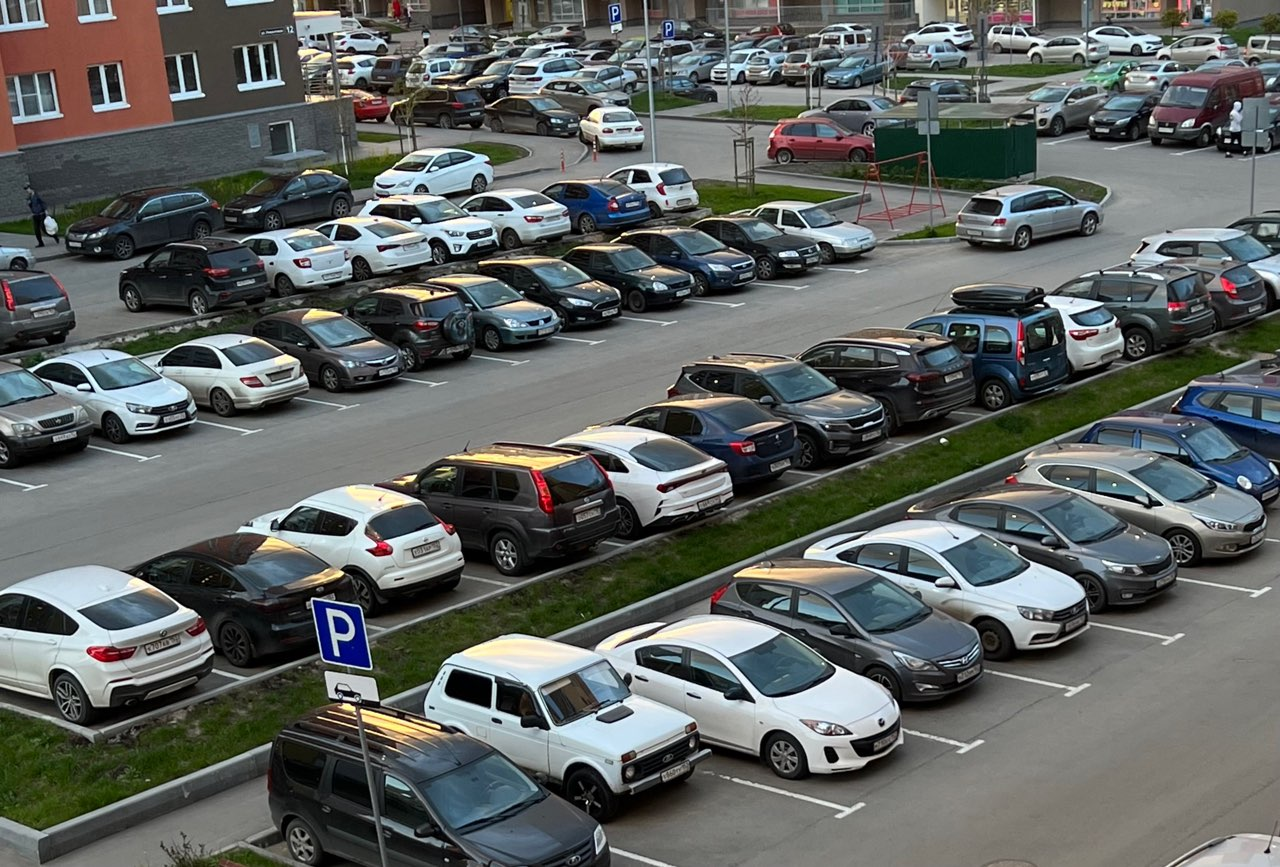Car: (267, 702, 615, 867), (423, 634, 713, 822), (596, 615, 903, 780), (710, 557, 985, 704), (803, 520, 1090, 660), (906, 483, 1180, 612), (0, 565, 214, 725), (119, 532, 359, 668), (379, 442, 621, 576), (1009, 444, 1268, 566), (239, 484, 465, 614), (666, 352, 891, 469), (906, 283, 1069, 410), (553, 425, 735, 538), (786, 326, 976, 434), (584, 392, 798, 487), (1080, 410, 1280, 506), (1045, 261, 1216, 360), (31, 349, 199, 443), (143, 333, 309, 416), (251, 308, 407, 392), (118, 236, 269, 316), (64, 186, 223, 260), (1129, 228, 1280, 305), (343, 283, 475, 370), (476, 255, 624, 328), (426, 274, 561, 351), (0, 360, 93, 468), (613, 225, 758, 294), (954, 184, 1104, 250), (359, 194, 500, 264), (1148, 66, 1266, 149), (563, 242, 697, 313), (1170, 375, 1280, 461), (727, 200, 878, 262), (692, 213, 823, 280), (222, 169, 354, 231), (241, 228, 353, 297), (1165, 257, 1270, 329), (316, 216, 432, 281), (458, 188, 572, 249), (1045, 295, 1125, 375), (0, 268, 76, 351), (371, 147, 496, 197), (542, 178, 652, 234), (1017, 79, 1112, 136), (607, 163, 700, 220), (767, 116, 875, 165), (389, 85, 485, 129), (536, 74, 631, 117), (483, 95, 580, 137), (1165, 832, 1280, 867), (799, 94, 897, 135), (1088, 89, 1162, 140), (1215, 105, 1280, 155), (578, 105, 646, 151), (823, 50, 897, 90), (622, 39, 695, 79), (465, 58, 532, 101), (508, 57, 583, 95), (1154, 32, 1239, 65), (781, 47, 847, 87), (1082, 24, 1164, 56), (1026, 35, 1110, 64), (301, 52, 359, 93), (899, 79, 992, 104), (1123, 59, 1193, 91), (430, 54, 500, 86), (1228, 210, 1280, 253), (710, 48, 770, 85), (901, 21, 975, 51), (370, 53, 422, 94), (987, 24, 1057, 54), (664, 50, 727, 83), (1078, 57, 1141, 90), (326, 54, 380, 91), (906, 40, 968, 72), (654, 76, 718, 103), (403, 57, 457, 89), (575, 64, 638, 91), (656, 18, 725, 42), (340, 89, 390, 122), (744, 52, 790, 87), (448, 24, 508, 48), (341, 17, 392, 44), (803, 22, 872, 41), (818, 31, 869, 56), (333, 31, 388, 54), (1243, 33, 1280, 67), (734, 22, 796, 41), (527, 23, 587, 40), (1187, 58, 1250, 73), (518, 41, 570, 59), (0, 245, 36, 271), (1255, 56, 1280, 92), (756, 35, 803, 53), (446, 41, 492, 59), (571, 49, 613, 67), (575, 39, 624, 54), (492, 37, 544, 51), (606, 48, 643, 66), (539, 34, 586, 48), (782, 37, 821, 52), (487, 46, 528, 60), (418, 43, 450, 59), (692, 38, 726, 52), (729, 39, 763, 52), (618, 34, 647, 48), (308, 33, 330, 51), (538, 49, 582, 58), (298, 49, 326, 62), (1264, 365, 1280, 376)
